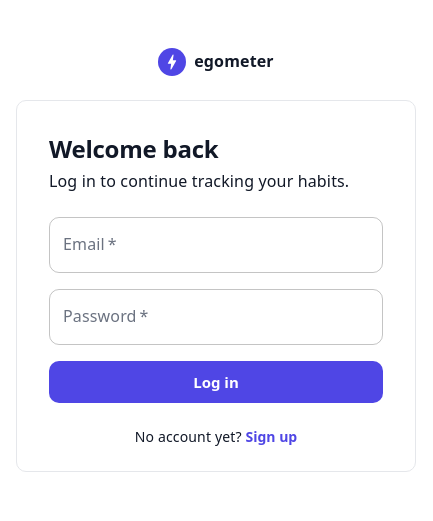
Test case: LoginPage › should show an error on invalid credentials
This screenshot has width=433, height=521.
Type "foo@example.com" into the field labelled "Email *" at (216, 245), box top-left (49, 217), bottom-right (383, 273)
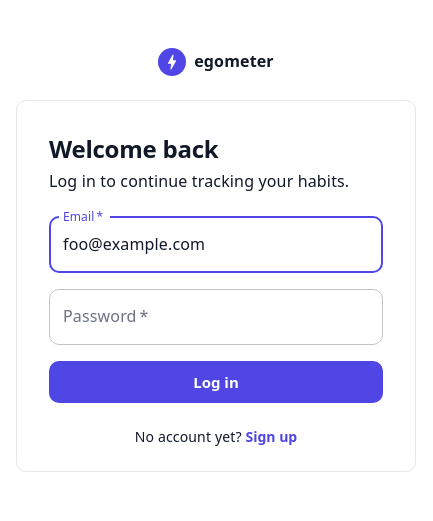
Type "wrong" into the password field labelled "Password *" at (216, 317), box top-left (49, 289), bottom-right (383, 345)
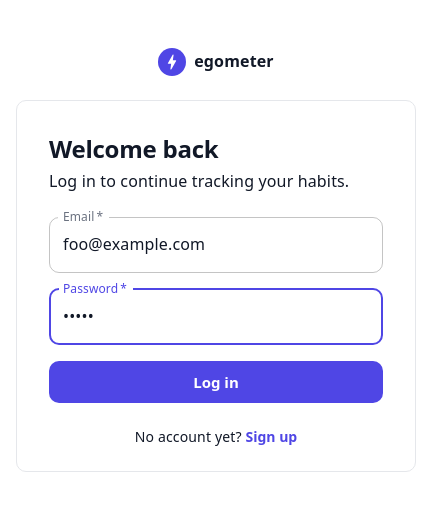
Click the button "Log in" at (216, 382), box top-left (49, 361), bottom-right (383, 403)
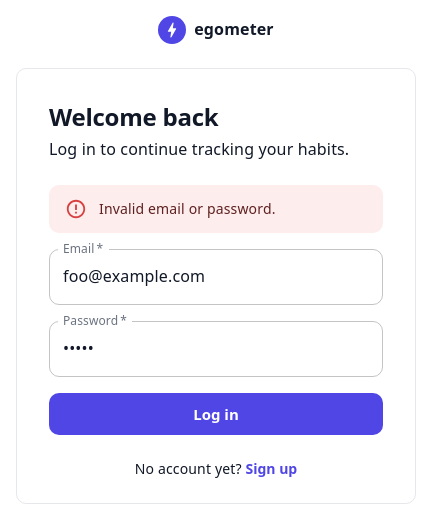
Check: the text "Invalid email or password." is shown, box top-left (99, 199), bottom-right (276, 218)
